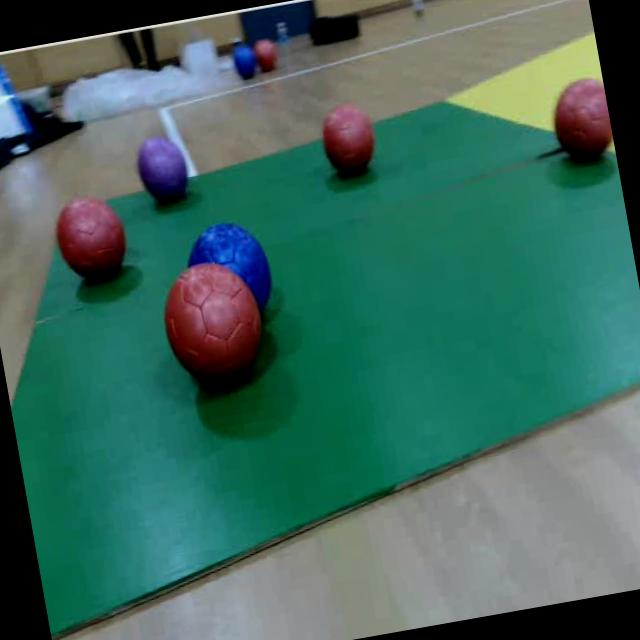blue_ball: (174, 212, 267, 269), (232, 44, 260, 80)
purple_ball: (131, 128, 191, 208)
red_ball: (156, 266, 261, 394), (51, 190, 134, 288), (544, 68, 616, 170), (314, 96, 384, 180), (254, 33, 284, 76)
